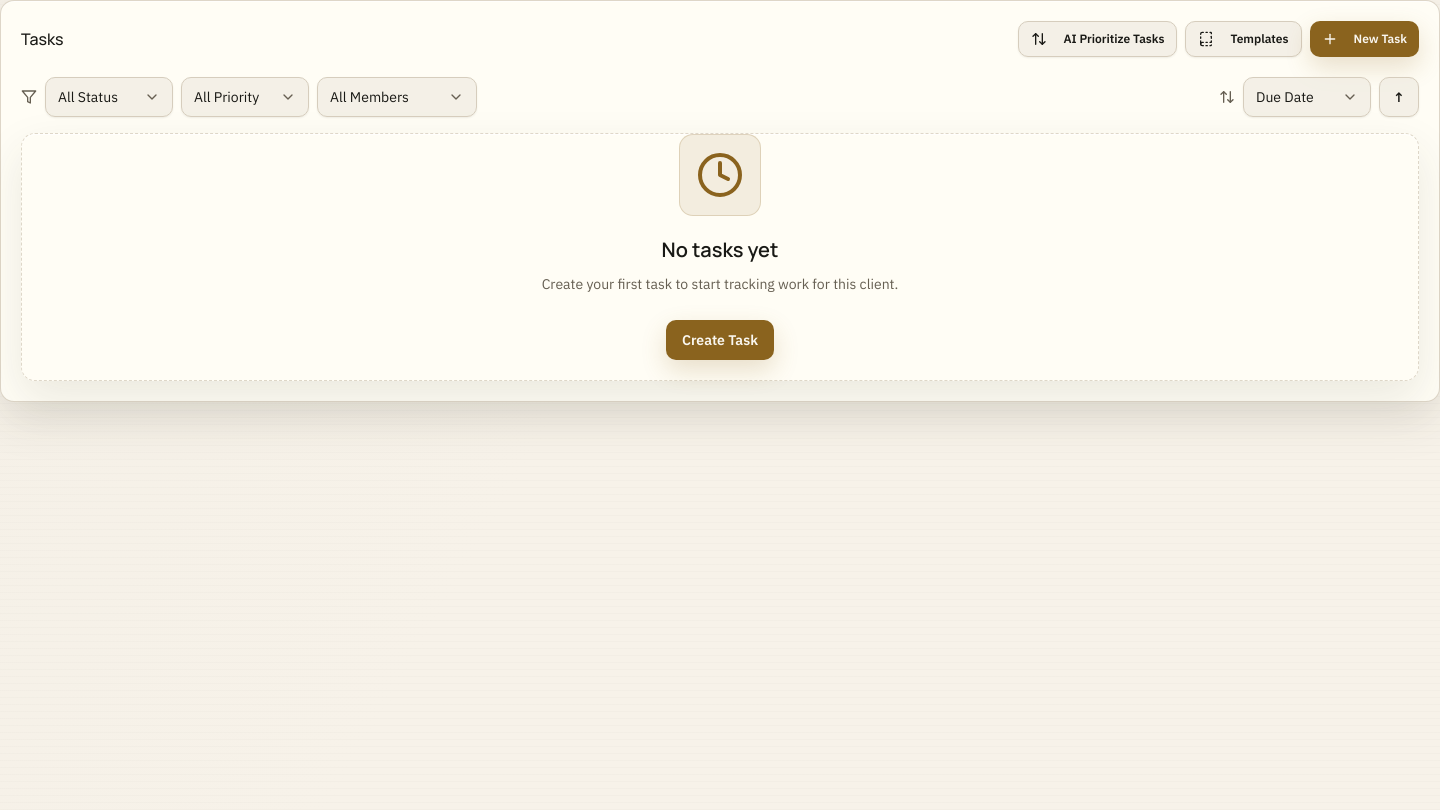
Test: Shared AI workflow blocker surfaces › shows the blocker in TasksTab
Click the button "AI Prioritize Tasks" at (1098, 39), box x1=1018 y1=21 x2=1178 y2=57
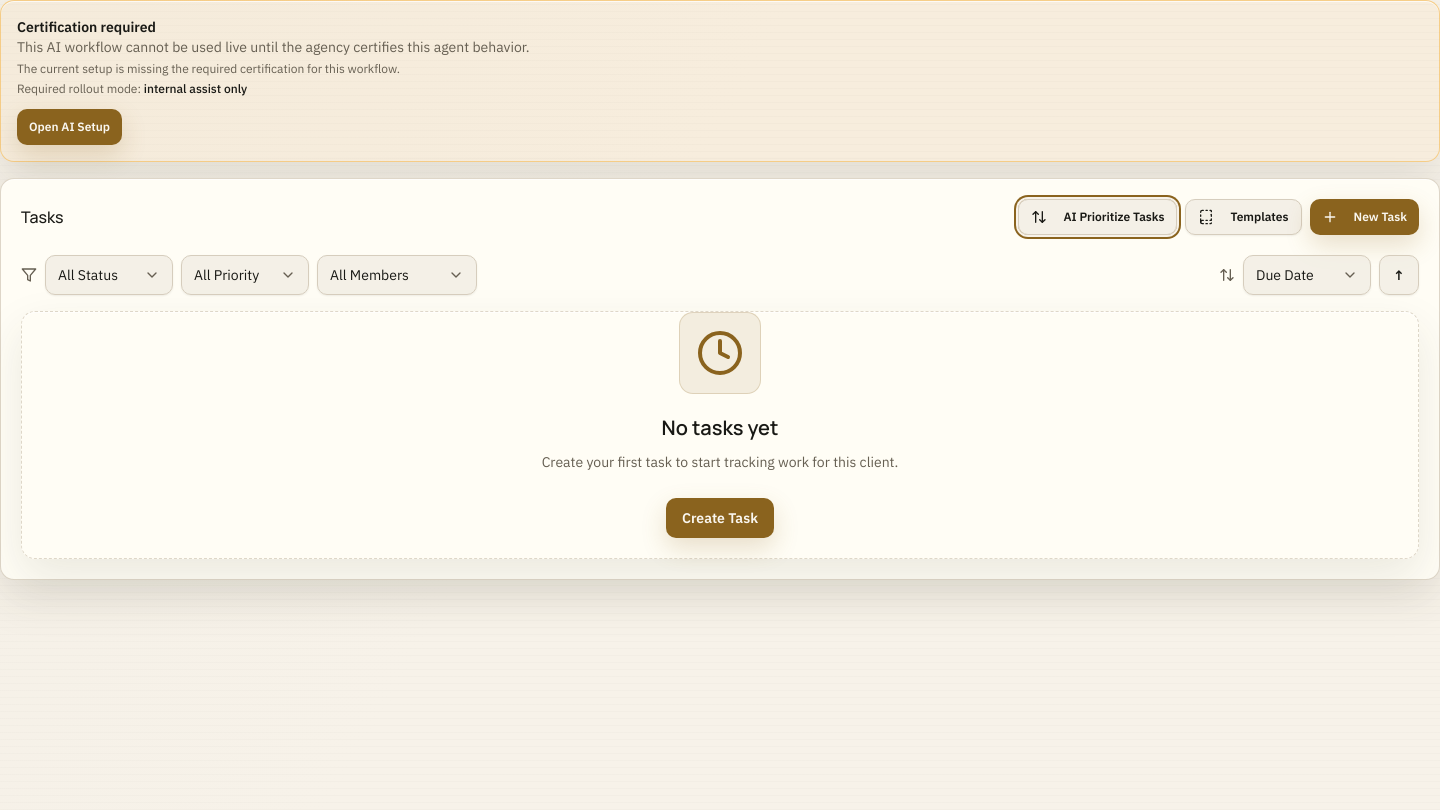
Now the text "Certification required" is shown, box x1=17 y1=18 x2=156 y2=36
Now the text "The current setup is missing the required certification for this workflow." is shown, box x1=17 y1=61 x2=400 y2=76
